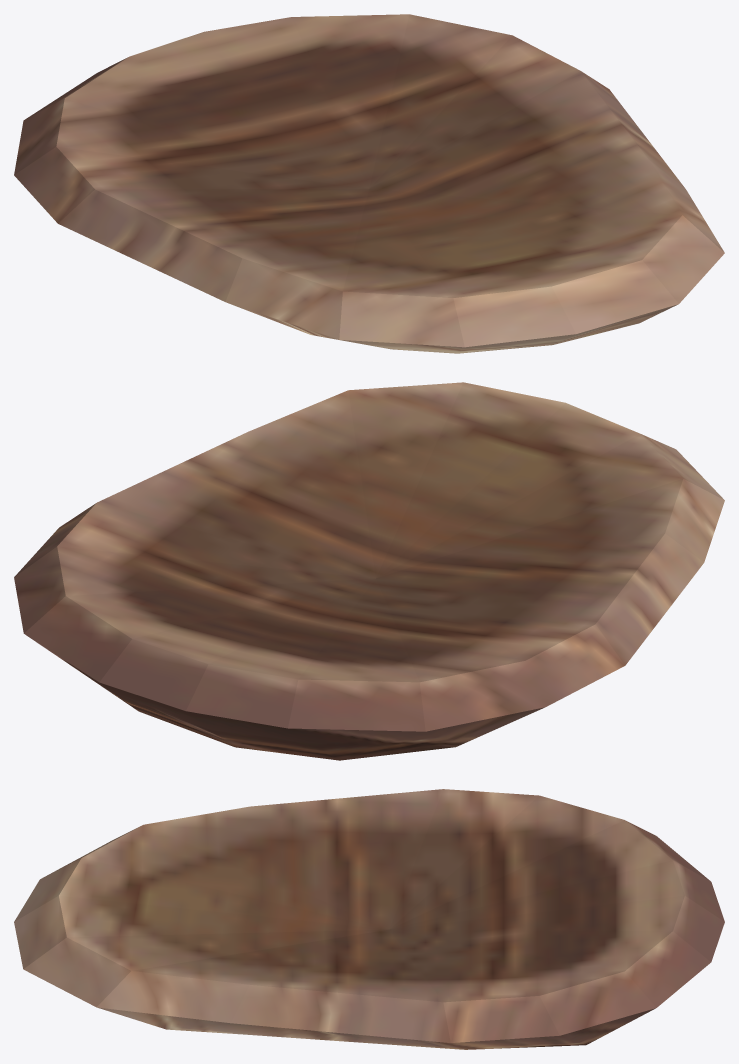
3 views of the same model, one above another, from view 1: azimuth 30°, elevation 25°; view 2: azimuth 150°, elevation 25°; view 3: azimuth 270°, elevation 25° (orthographic). The views are drawn at different scales.
Parts seen in each view (by area): view 1: owilite.model_r2-Mesh[0]; view 2: owilite.model_r2-Mesh[0]; view 3: owilite.model_r2-Mesh[0].
Boxes of the visible parts, x1=… form: owilite.model_r2-Mesh[0]: x1=14, y1=14, x2=724, y2=353; owilite.model_r2-Mesh[0]: x1=14, y1=382, x2=724, y2=760; owilite.model_r2-Mesh[0]: x1=14, y1=789, x2=724, y2=1049.
Size of the model in its own units: 0.4383 by 0.0814 by 0.5438.
1 material, 1 textured.
